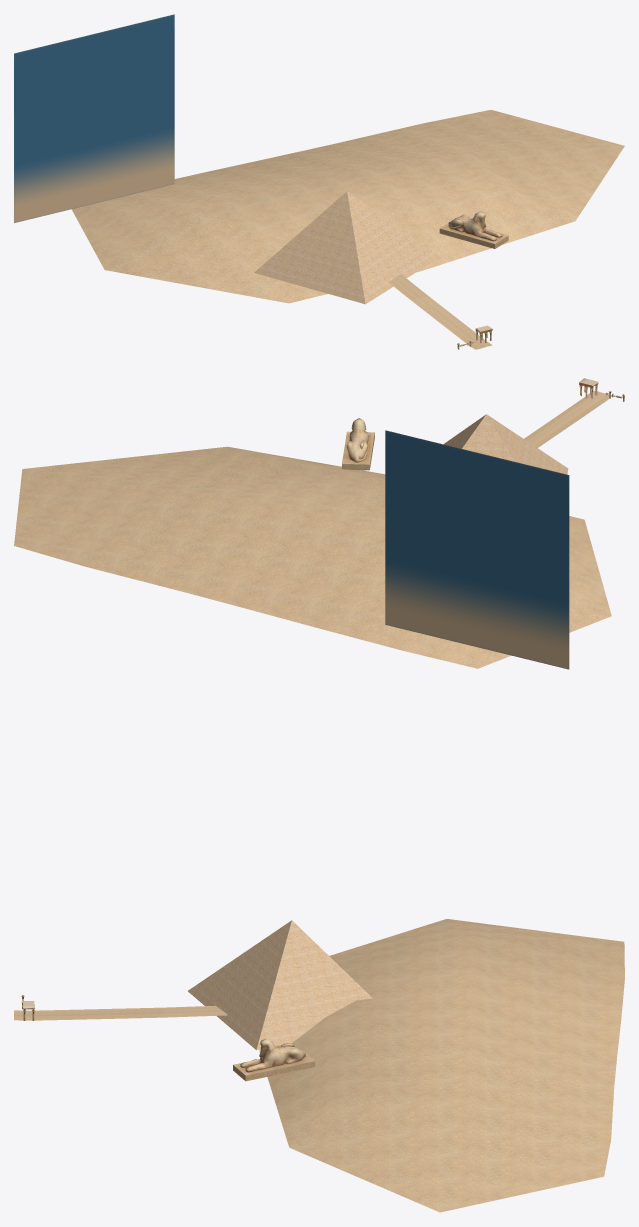
Rendered from egypt_outside.FBX.
The picture shows the model from 3 angles, top to bottom: view 1: azimuth 30°, elevation 25°; view 2: azimuth 150°, elevation 25°; view 3: azimuth 270°, elevation 25°; orthographic projection. The views are drawn at different scales.
Visible parts, largest first — view 1: SQ, sky, JZT, Box013, human; view 2: SQ, sky, JZT, Box013, human; view 3: SQ, JZT, Box013, human.
Part boxes in pixels (x1,y1,x2,y2): SQ: (71, 109, 624, 303); sky: (14, 14, 174, 222); JZT: (254, 191, 439, 304); Box013: (388, 274, 492, 349); human: (439, 211, 508, 248); SQ: (14, 446, 611, 668); sky: (385, 430, 569, 669); JZT: (443, 414, 568, 474); Box013: (524, 390, 611, 447); human: (342, 418, 374, 470); SQ: (259, 919, 624, 1212); JZT: (188, 920, 372, 1050); Box013: (14, 1005, 227, 1020); human: (233, 1039, 315, 1081).
Bounding box in the file's own units: 18417 × 5703 × 15391.
